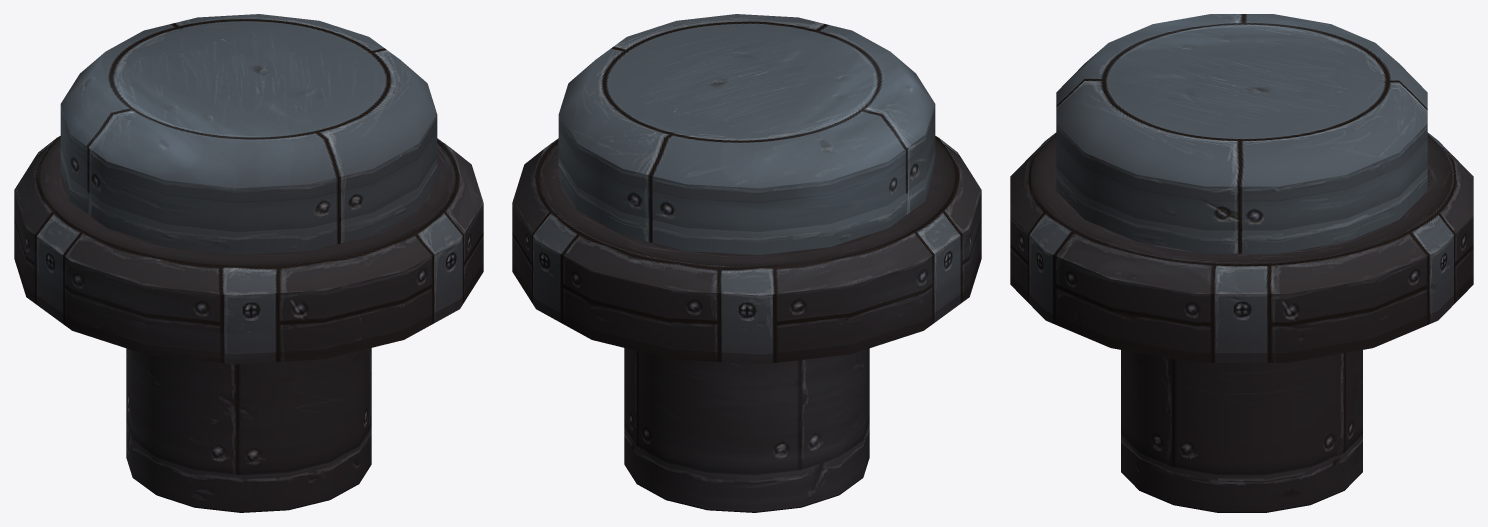
The model's file is Tow_Hammer1.fbx.
The picture shows the model from 3 angles, left to right: view 1: azimuth 30°, elevation 25°; view 2: azimuth 150°, elevation 25°; view 3: azimuth 270°, elevation 25°; orthographic projection.
Parts seen in each view (by area): view 1: Turret, Base; view 2: Turret, Base; view 3: Turret, Base.
Boxes of the visible parts, x1=… form: Turret: x1=60, y1=14, x2=437, y2=512; Base: x1=14, y1=136, x2=483, y2=364; Turret: x1=558, y1=14, x2=935, y2=512; Base: x1=512, y1=136, x2=981, y2=364; Turret: x1=1056, y1=14, x2=1427, y2=512; Base: x1=1010, y1=132, x2=1473, y2=362.
Bounding box in the file's own units: 1.61 × 1.46 × 1.61.
1 material, 1 textured.
